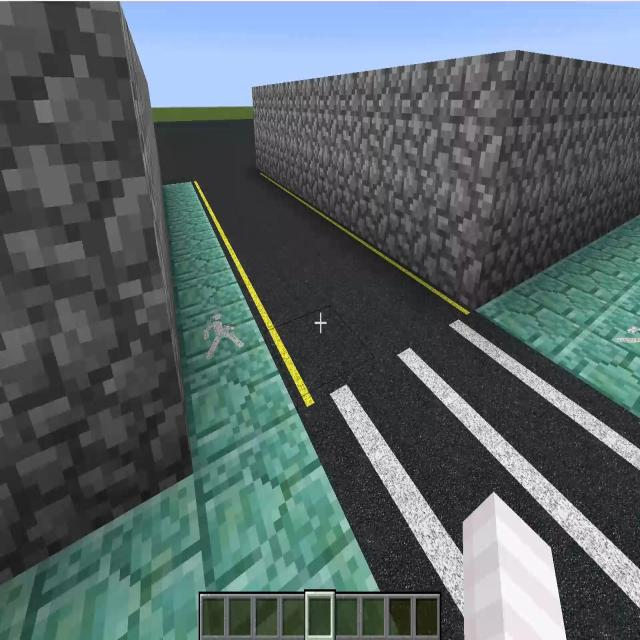crosswalk: (299, 314, 640, 639)
road: (156, 120, 471, 411)
sidewalk: (0, 182, 377, 639), (477, 216, 640, 417)
